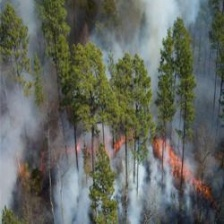fire: (149, 134, 206, 195)
smoke: (1, 106, 95, 224), (134, 1, 178, 55)
